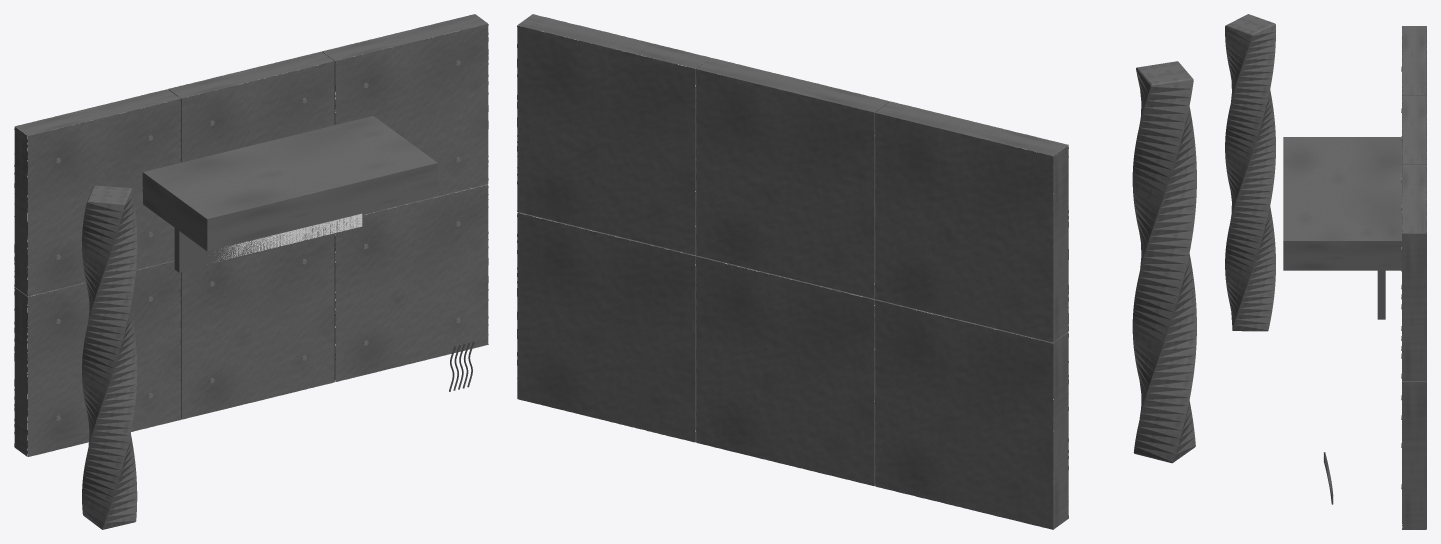
File: concrete-in-high-fidelity.gltf
3 renders of one model, left to right at view 1: azimuth 30°, elevation 25°; view 2: azimuth 150°, elevation 25°; view 3: azimuth 270°, elevation 25°, orthographic. The views are drawn at different scales.
Size of what is drawn, in the model's own units: 31.54 by 20.2 by 12.32.
10 materials, 1 textured.
